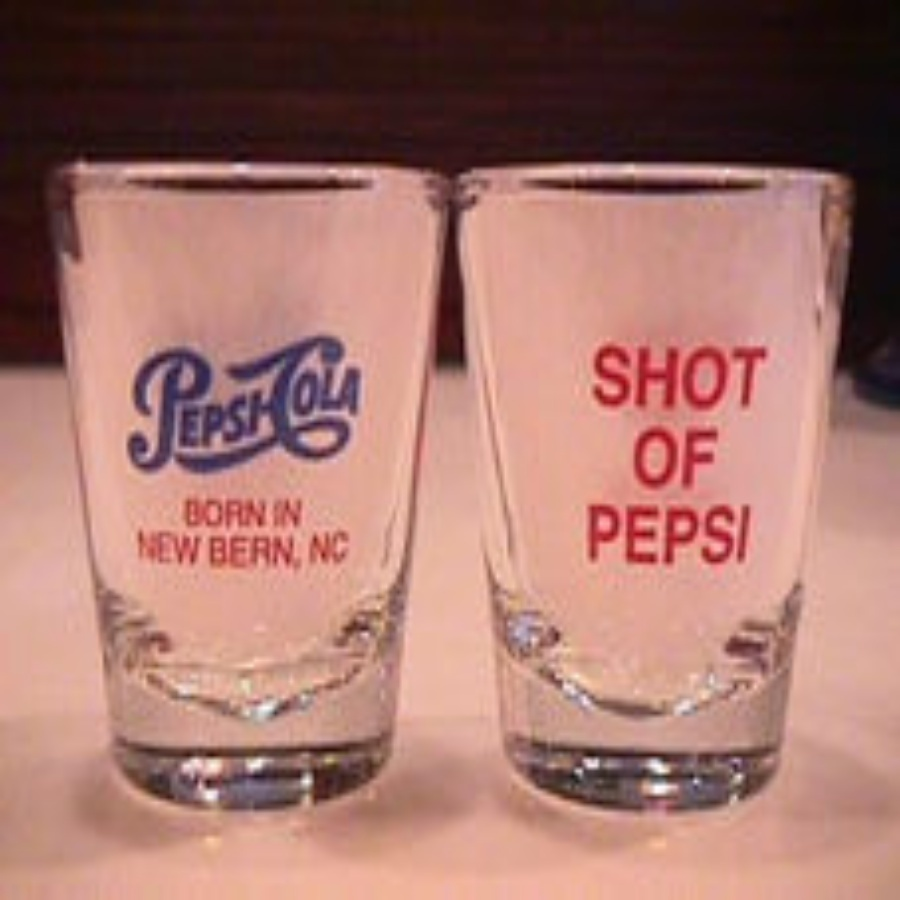whiskey: (472, 162, 838, 789), (79, 161, 445, 788)
